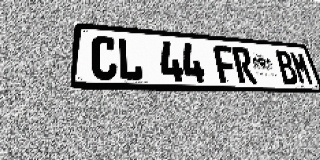4: (158, 41, 184, 82), (180, 42, 206, 82)
B: (274, 50, 300, 85)
C: (91, 35, 117, 80)
F: (213, 45, 239, 83)
L: (117, 37, 143, 81)
M: (289, 51, 315, 85)
R: (231, 47, 257, 84)
